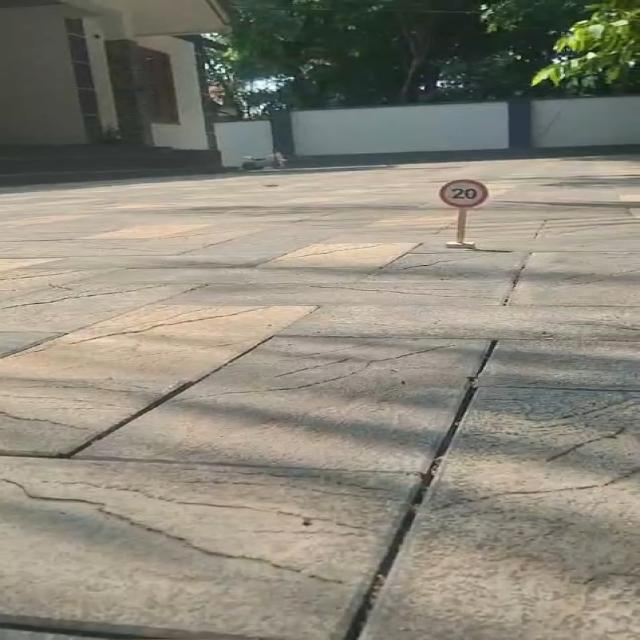Speed20: (432, 173, 494, 212)
